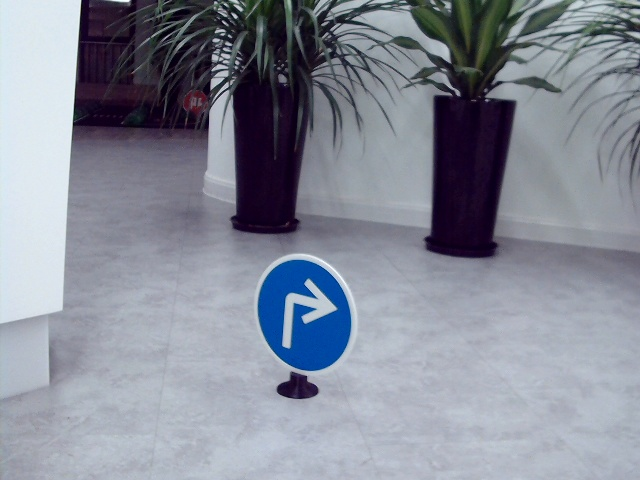turn_right: (273, 274, 336, 352)
